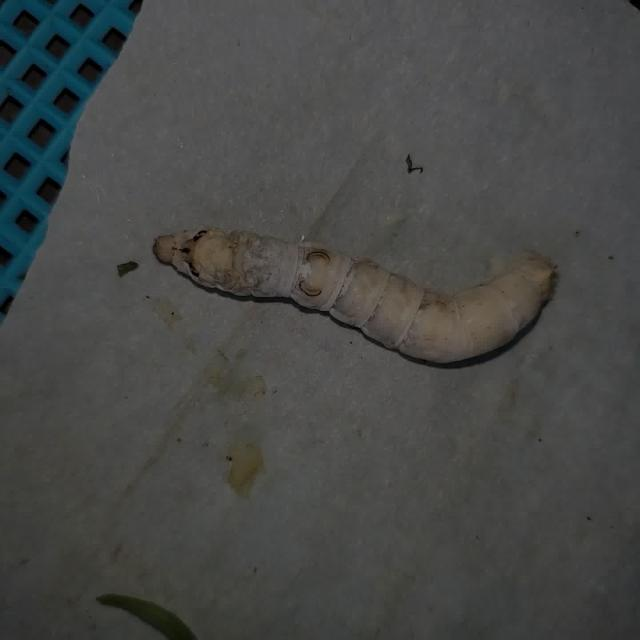Grasserie: (148, 211, 559, 372)
